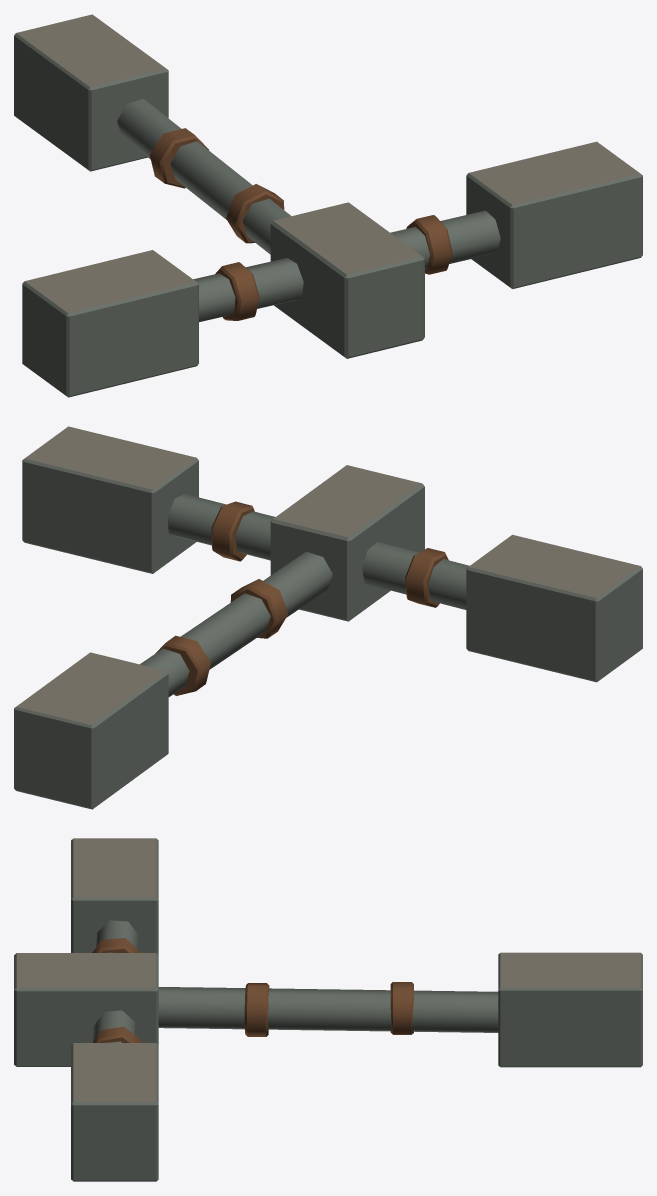
The model's file is R4C_ROD_T_LOD1.fbx.
3 renders of one model, top to bottom at view 1: azimuth 30°, elevation 25°; view 2: azimuth 150°, elevation 25°; view 3: azimuth 270°, elevation 25°, orthographic. The views are drawn at different scales.
Parts seen in each view (by area): view 1: R4C_ROD_T_LOD1; view 2: R4C_ROD_T_LOD1; view 3: R4C_ROD_T_LOD1.
Boxes of the visible parts, x1,y1,x2,y2 form: R4C_ROD_T_LOD1: (14, 14, 642, 397); R4C_ROD_T_LOD1: (14, 426, 642, 809); R4C_ROD_T_LOD1: (14, 838, 642, 1181).
Bounding box in the file's own units: 1.62 × 0.226 × 1.62.
